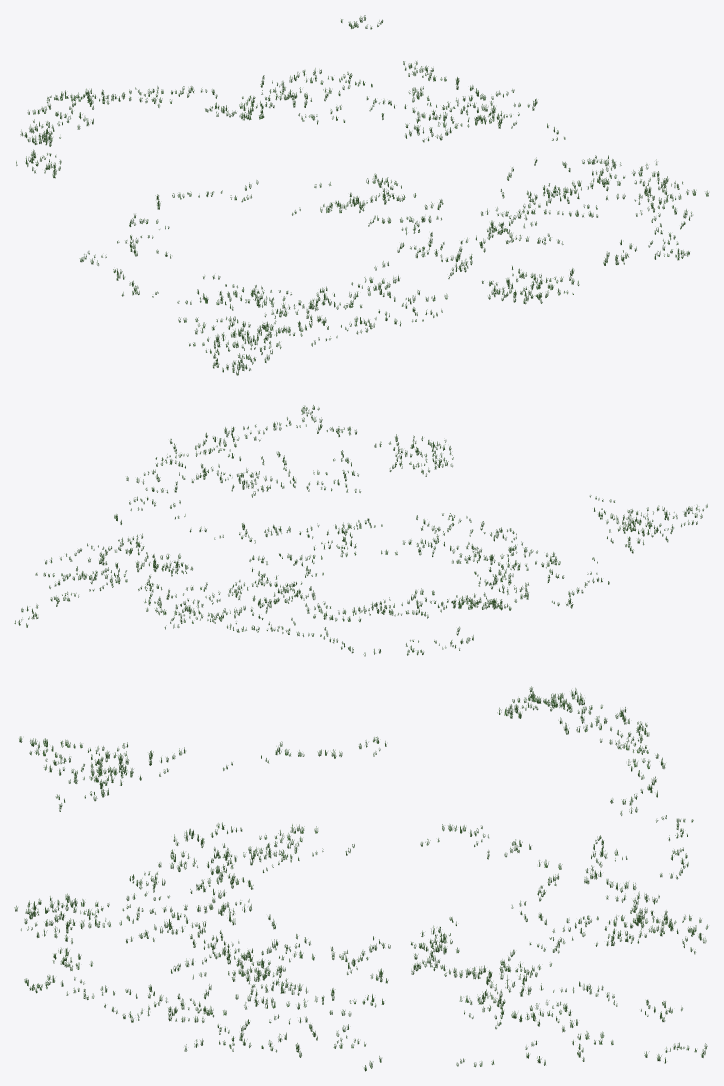
File: Grass.glb
The picture shows the model from 3 angles, top to bottom: view 1: azimuth 30°, elevation 25°; view 2: azimuth 150°, elevation 25°; view 3: azimuth 270°, elevation 25°; orthographic projection. The views are drawn at different scales.
Size of the model in its own units: 17.39 by 3.16 by 16.61.
